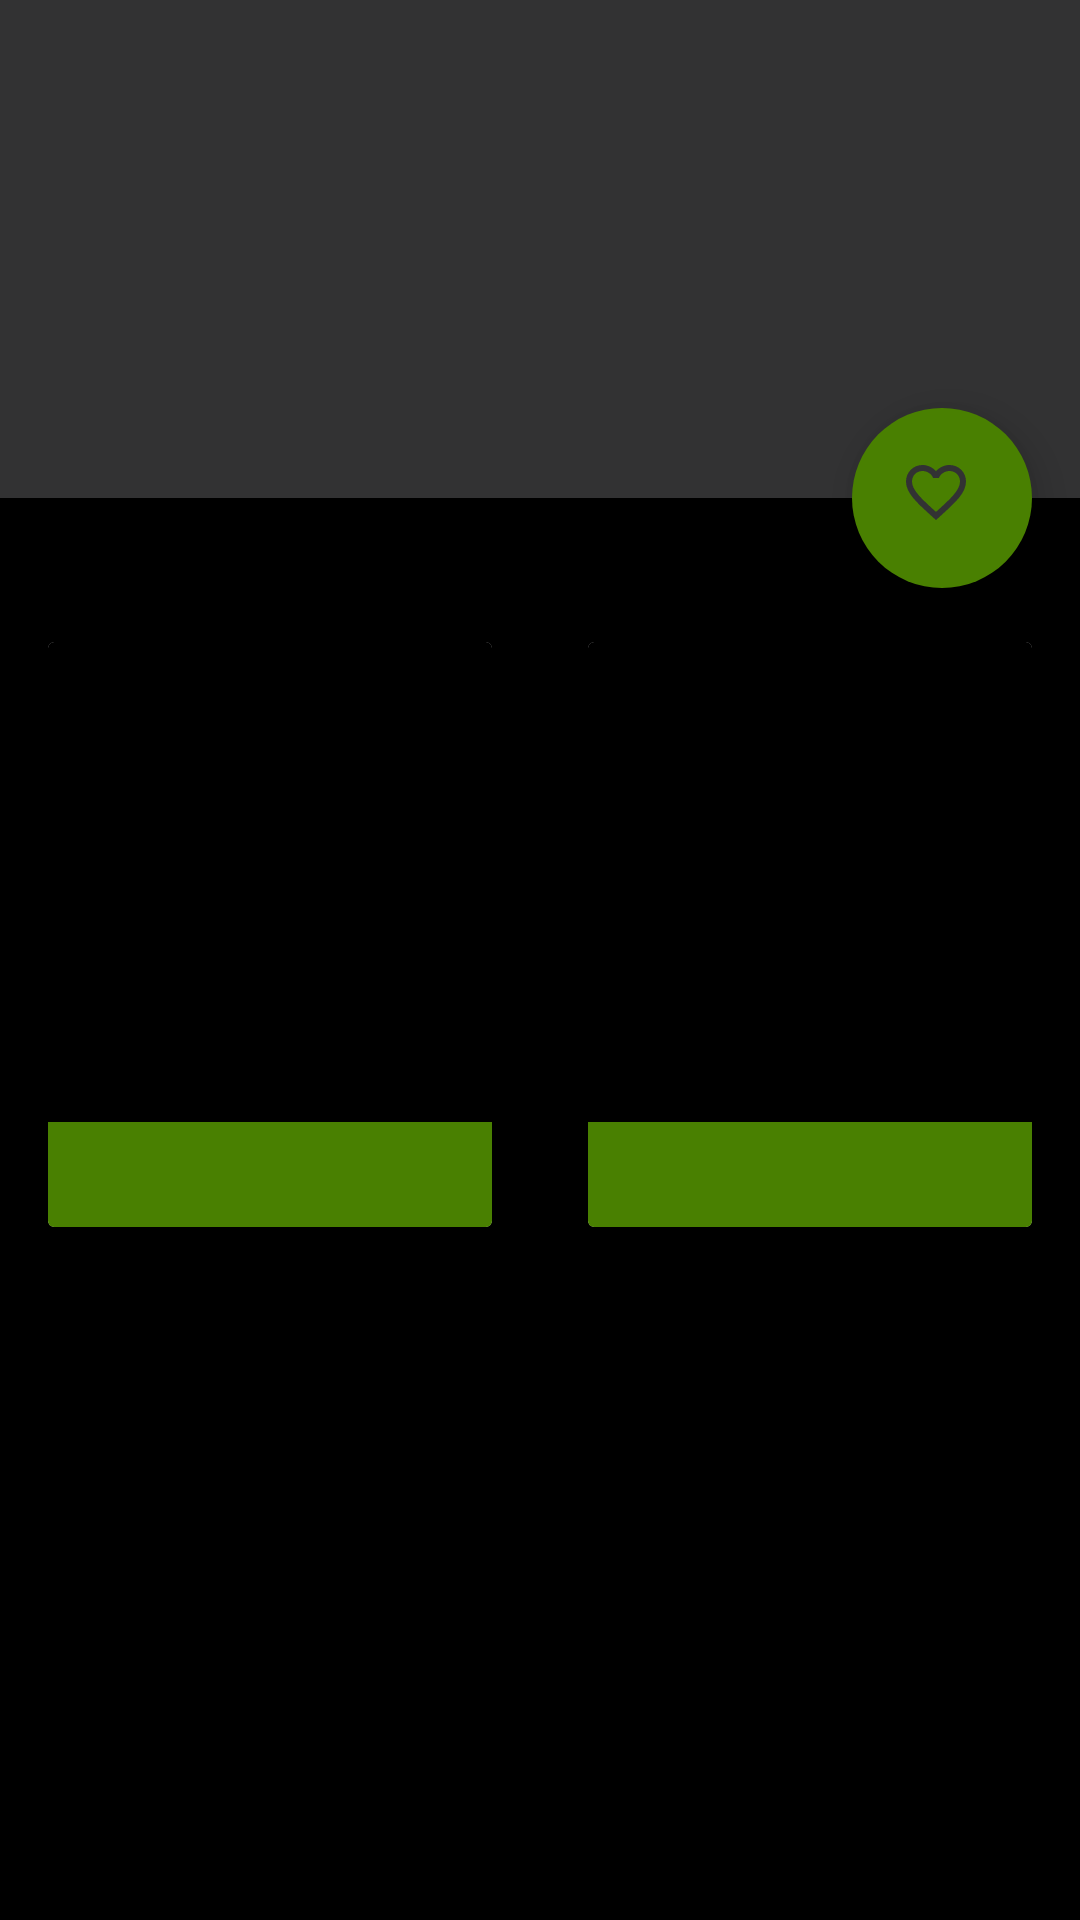

Point at icon controls on the screen. Image size 1080x1920, points as (x=x, y=y).
favorite: (x=942, y=498)
